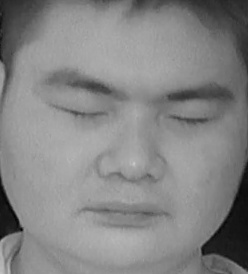blink: (52, 95, 111, 131), (164, 104, 215, 139)
mouth: (80, 191, 169, 236)
